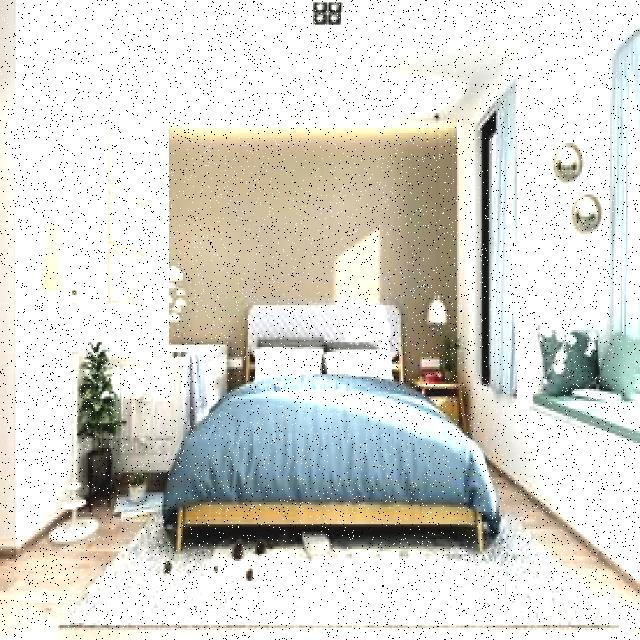bed: (168, 295, 478, 550)
